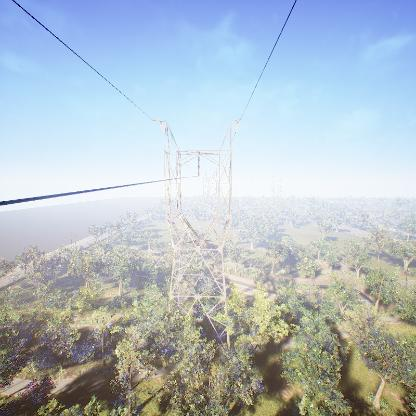tower: (153, 118, 240, 348)
